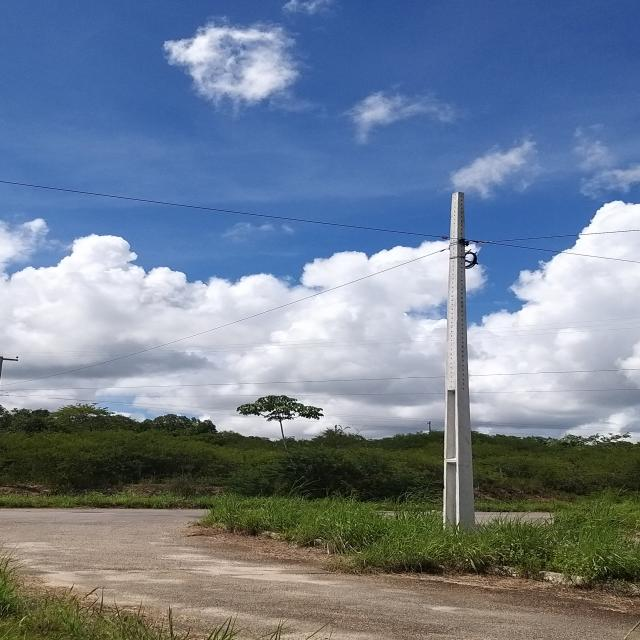Plaqueta: (442, 236, 448, 240), (480, 242, 485, 244)
